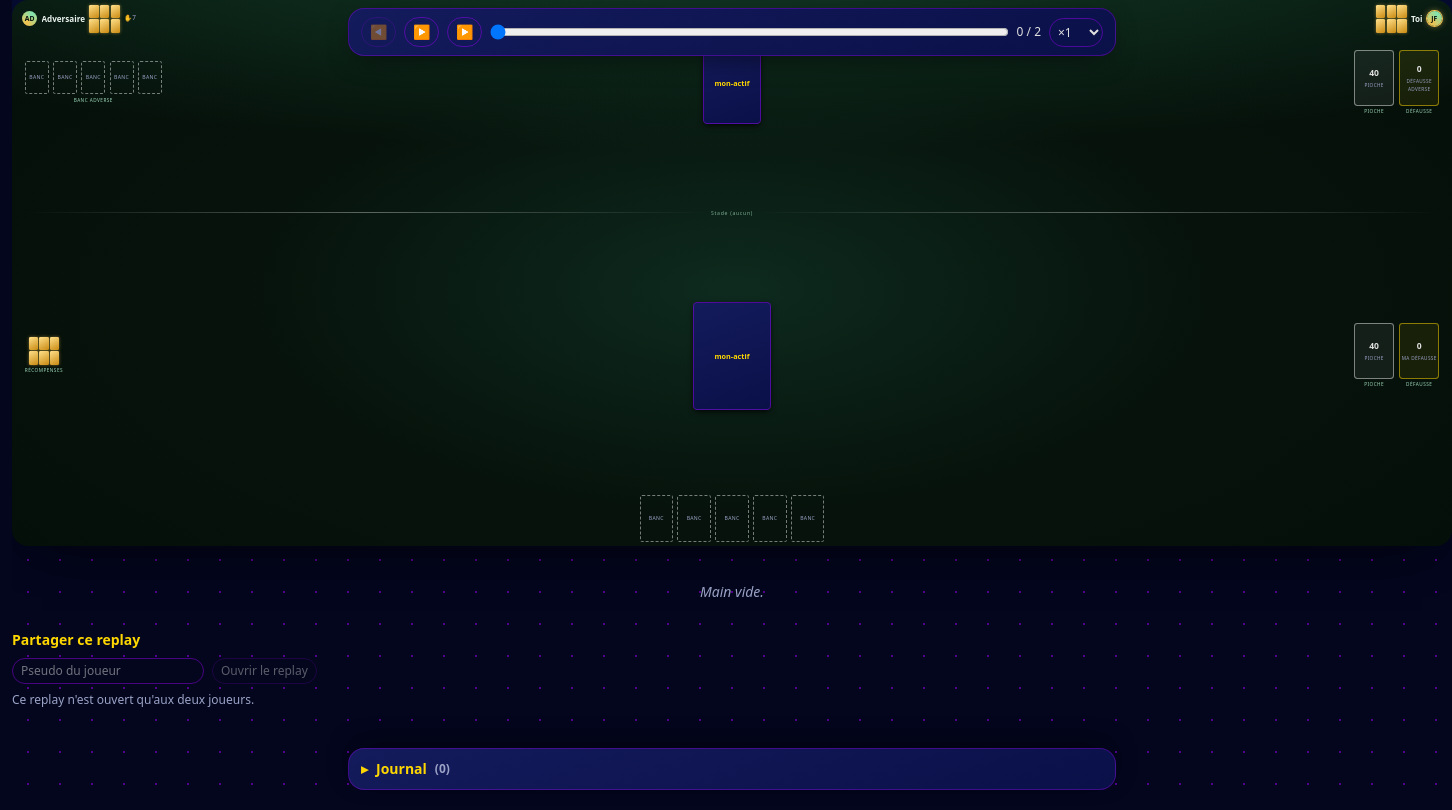
ReplayView › avance et recule SANS rappeler le serveur (la navigation est locale)
The width and height of the screenshot is (1452, 810).
Expected: the text with test id "replay-position" reads "0 / 2", [1016, 24, 1041, 40]
Click the button named "Coup suivant".
click(464, 32)  # box [447, 17, 482, 47]
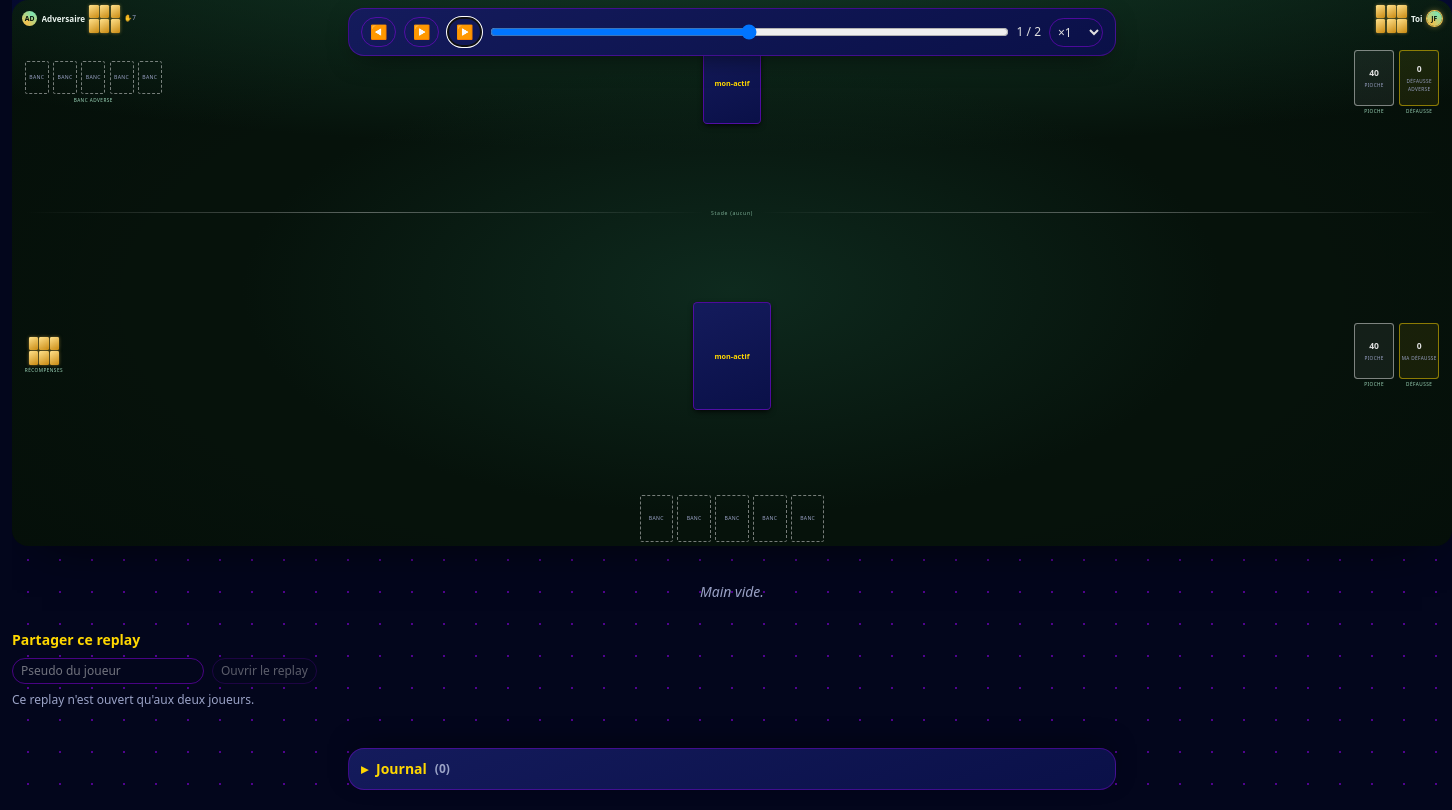
Expected: the text with test id "replay-position" reads "1 / 2", [1016, 24, 1041, 40]
Click the button named "Coup suivant".
click(464, 32)  # box [447, 17, 482, 47]
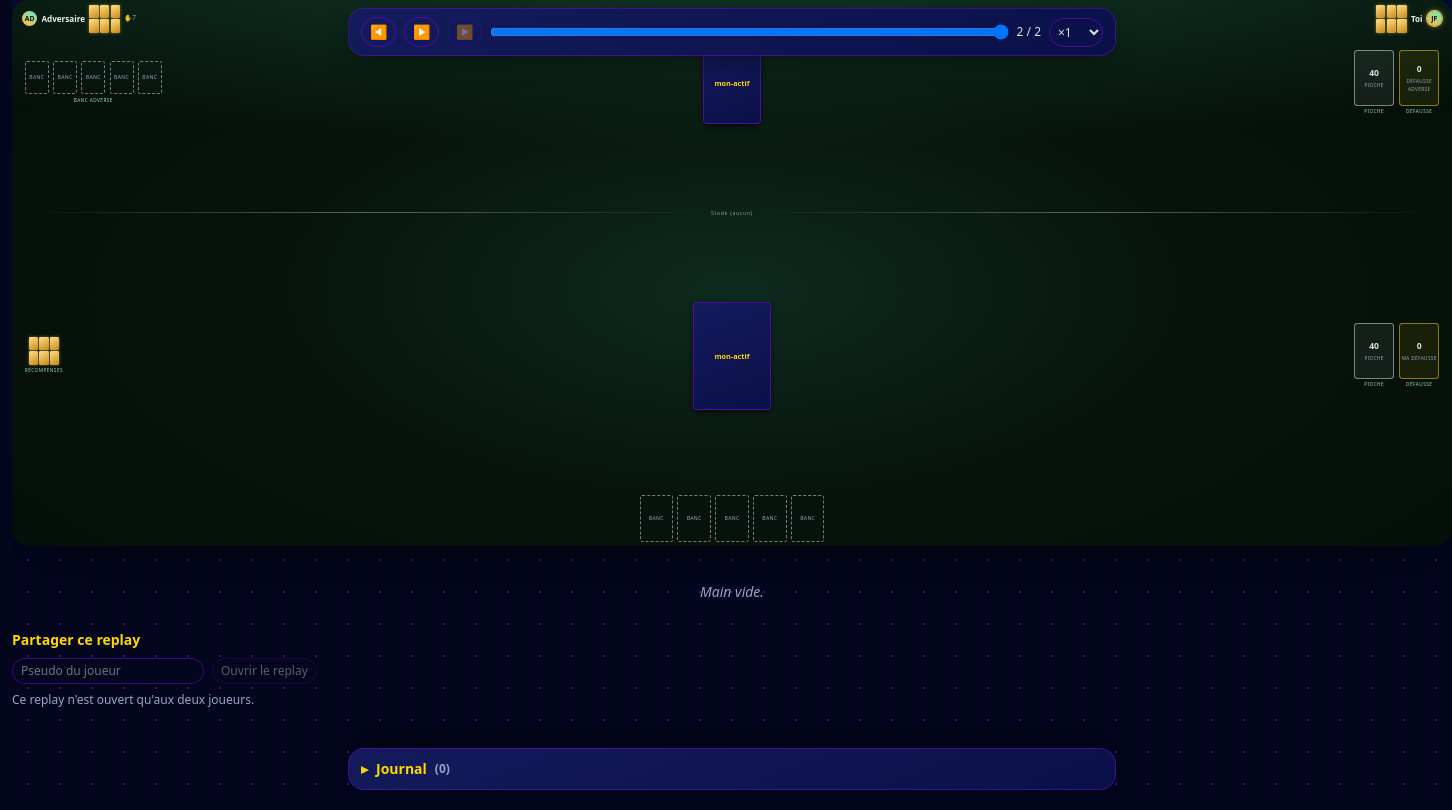
Expected: the text with test id "replay-position" reads "2 / 2", [1016, 24, 1041, 40]
Click the button named "Coup précédent".
click(378, 32)  # box [361, 17, 396, 47]
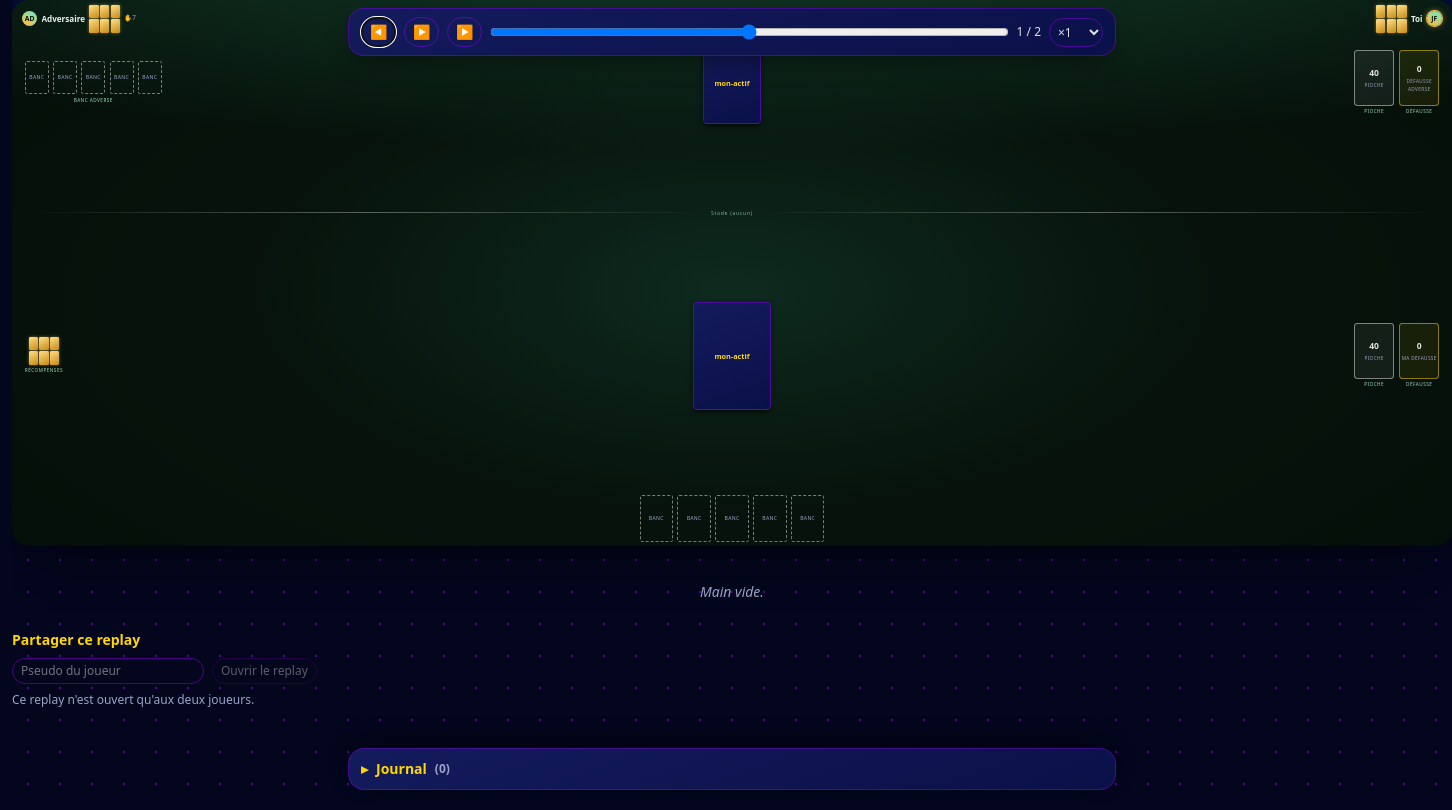
Expected: the text with test id "replay-position" reads "1 / 2", [1016, 24, 1041, 40]
